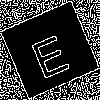E: (25, 25, 72, 81)
